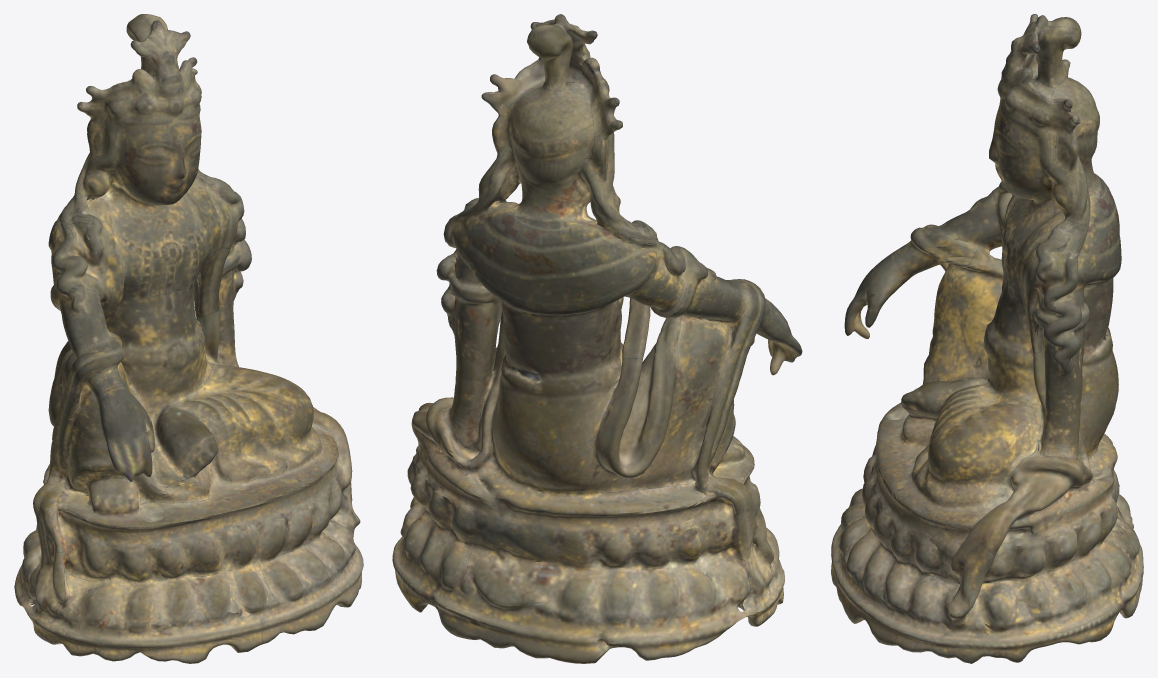
The model's file is buddha-kwanseum.glb.
The picture shows the model from 3 angles, left to right: view 1: azimuth 30°, elevation 25°; view 2: azimuth 150°, elevation 25°; view 3: azimuth 270°, elevation 25°; orthographic projection. The views are drawn at different scales.
Parts seen in each view (by area): view 1: seated_buddha; view 2: seated_buddha; view 3: seated_buddha.
Boxes of the visible parts, box(x1,y1,x2,y2) form: seated_buddha: box(14, 14, 363, 663); seated_buddha: box(392, 14, 802, 663); seated_buddha: box(831, 14, 1143, 663).
Bounding box in the file's own units: 76.87 × 129 × 63.71.
1 material, 1 textured.
